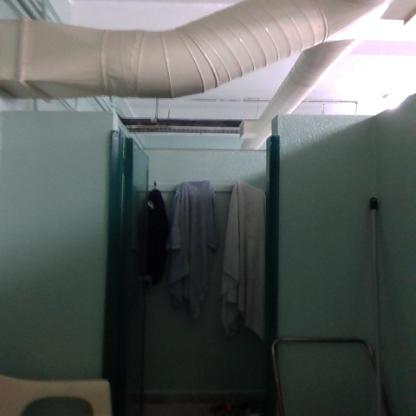open: (100, 111, 290, 413)
